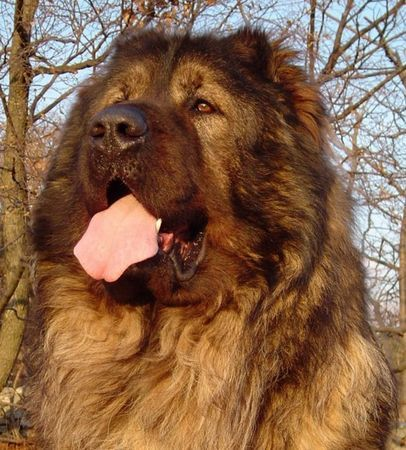cau_ovcharka: (27, 20, 396, 450)
